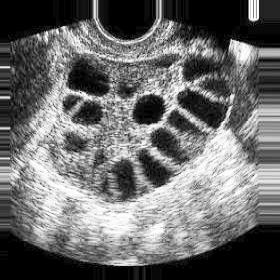PCOS: (136, 142, 170, 190), (151, 124, 192, 162), (70, 59, 112, 94), (180, 91, 232, 117), (167, 113, 216, 140), (115, 152, 135, 204), (180, 58, 218, 82), (132, 95, 164, 122), (202, 77, 235, 103), (78, 99, 106, 128), (117, 77, 141, 101), (156, 54, 179, 69), (69, 137, 85, 154), (63, 95, 82, 107), (96, 150, 108, 164)
